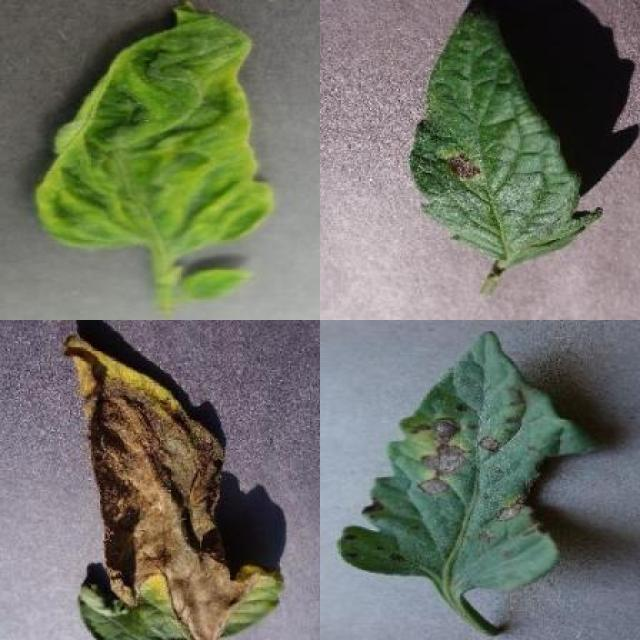Early Blight: (340, 328, 600, 593), (408, 7, 606, 270)
Late Blight: (62, 333, 285, 640)
Yellow Leaf Curl Virus: (34, 3, 274, 254), (182, 265, 259, 301)
